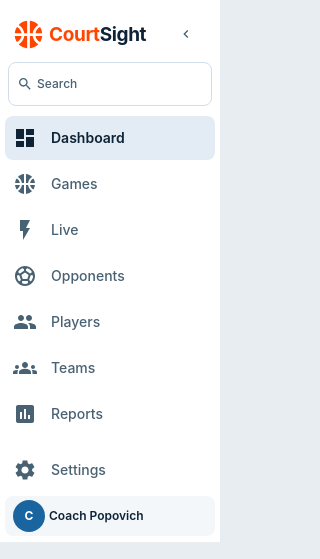
SideNav Component › toggles collapsed state on desktop when collapse/expand button is clicked
Click the button named "Collapse navigation" at (186, 34), box x1=164 y1=12 x2=208 y2=56
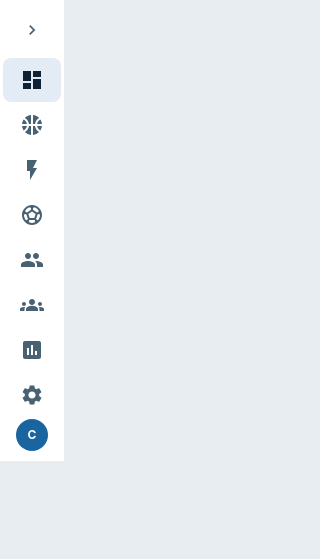
Now the button named "Expand navigation" is shown
Note: Expand navigation again
Click the button named "Expand navigation" at (32, 30), box x1=10 y1=8 x2=54 y2=52
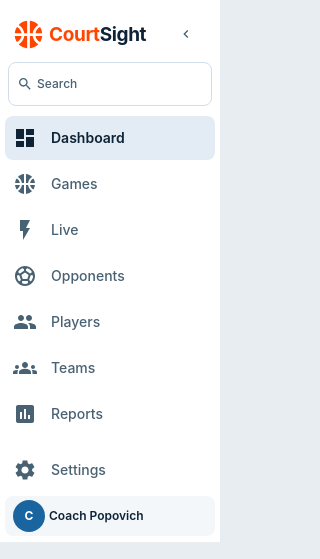
Now the text "Dashboard" is shown, box x1=51 y1=129 x2=125 y2=146
